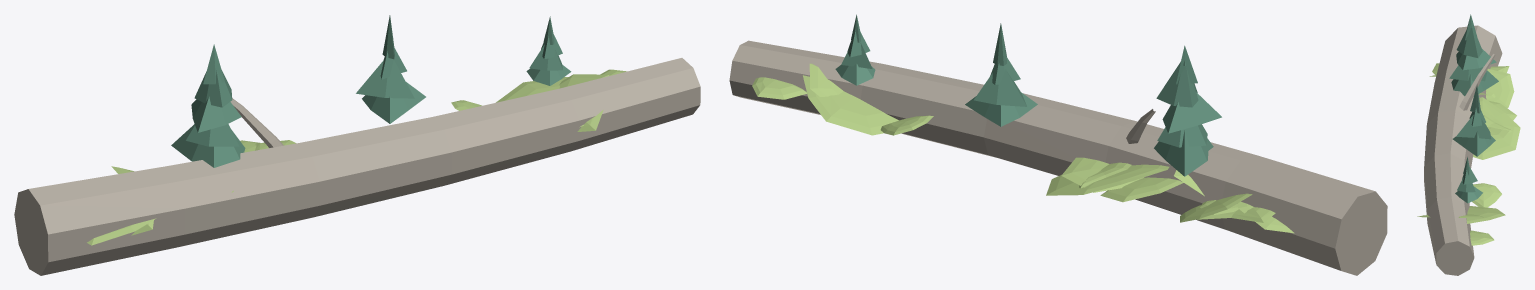
File: temperate-forest-ecology-nurse-log-with-seedlings-98f3e95f__3827.glb
3 views of the same model, side by side, from view 1: azimuth 30°, elevation 25°; view 2: azimuth 150°, elevation 25°; view 3: azimuth 270°, elevation 25° (orthographic). The views are drawn at different scales.
Visible parts, largest first — view 1: nurse-log-with-seedlings; view 2: nurse-log-with-seedlings; view 3: nurse-log-with-seedlings.
Part boxes in pixels (bbox=[...]): nurse-log-with-seedlings: bbox=[14, 15, 700, 275]; nurse-log-with-seedlings: bbox=[729, 14, 1387, 275]; nurse-log-with-seedlings: bbox=[1417, 14, 1520, 275].
Bounding box in the file's own units: 4.65 × 1.27 × 0.9802.
